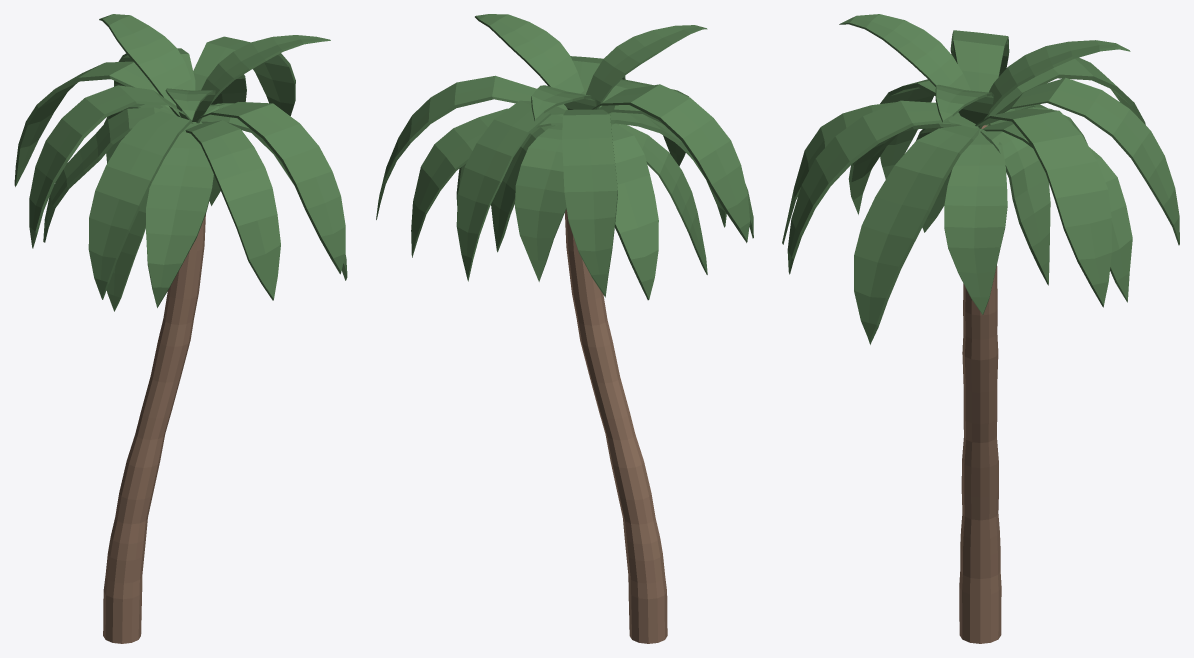
File: palmtree.fbx
3 views of the same model, side by side, from view 1: azimuth 30°, elevation 25°; view 2: azimuth 150°, elevation 25°; view 3: azimuth 270°, elevation 25° (orthographic). The views are drawn at different scales.
Parts seen in each view (by area): view 1: Cylinder.003; view 2: Cylinder.003; view 3: Cylinder.003.
Part boxes in pixels (box(x1,y1,x2,y2)): Cylinder.003: box(14, 14, 347, 643); Cylinder.003: box(376, 14, 753, 643); Cylinder.003: box(782, 14, 1179, 643).
Bounding box in the file's own units: 898 × 1561 × 902.
